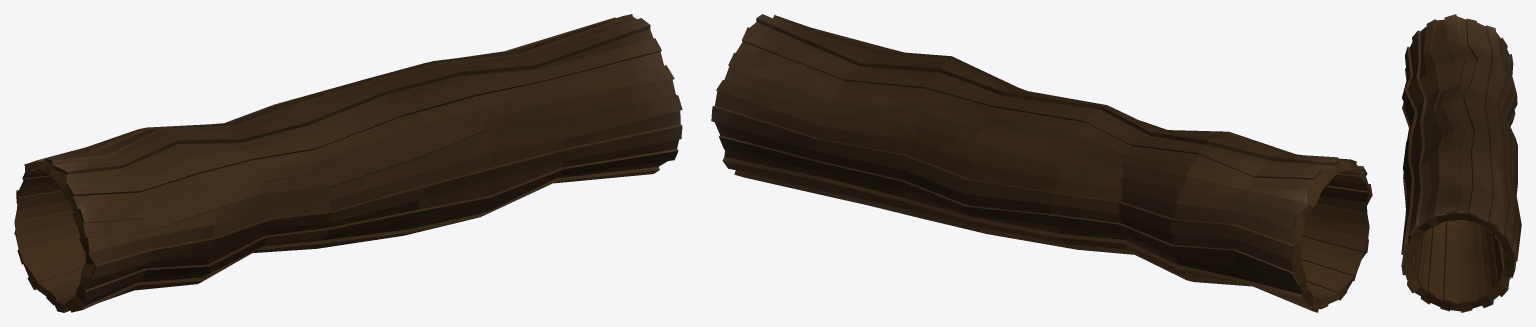
The model's file is Log_A.fbx.
3 renders of one model, left to right at view 1: azimuth 30°, elevation 25°; view 2: azimuth 150°, elevation 25°; view 3: azimuth 270°, elevation 25°, orthographic. The views are drawn at different scales.
Parts seen in each view (by area): view 1: Log_B.001; view 2: Log_B.001; view 3: Log_B.001.
Boxes of the visible parts, x1,y1,x2,y2 form: Log_B.001: (14, 14, 682, 312); Log_B.001: (711, 14, 1372, 312); Log_B.001: (1401, 14, 1521, 312).
Size of the model in its own units: 446 by 108 by 114.
